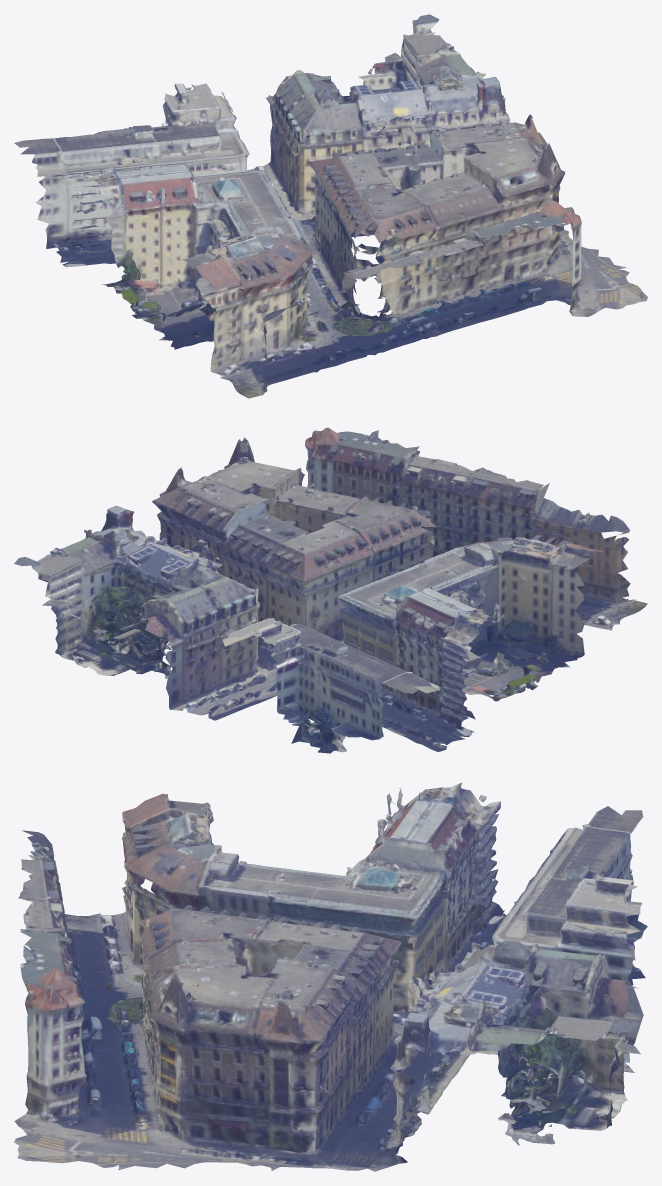
3 views of the same model, one above another, from view 1: azimuth 30°, elevation 25°; view 2: azimuth 150°, elevation 25°; view 3: azimuth 270°, elevation 25° (orthographic). The views are drawn at different scales.
Bounding box in the file's own units: 107 × 32.19 × 107.
Materials: 1 (1 with a texture image).
